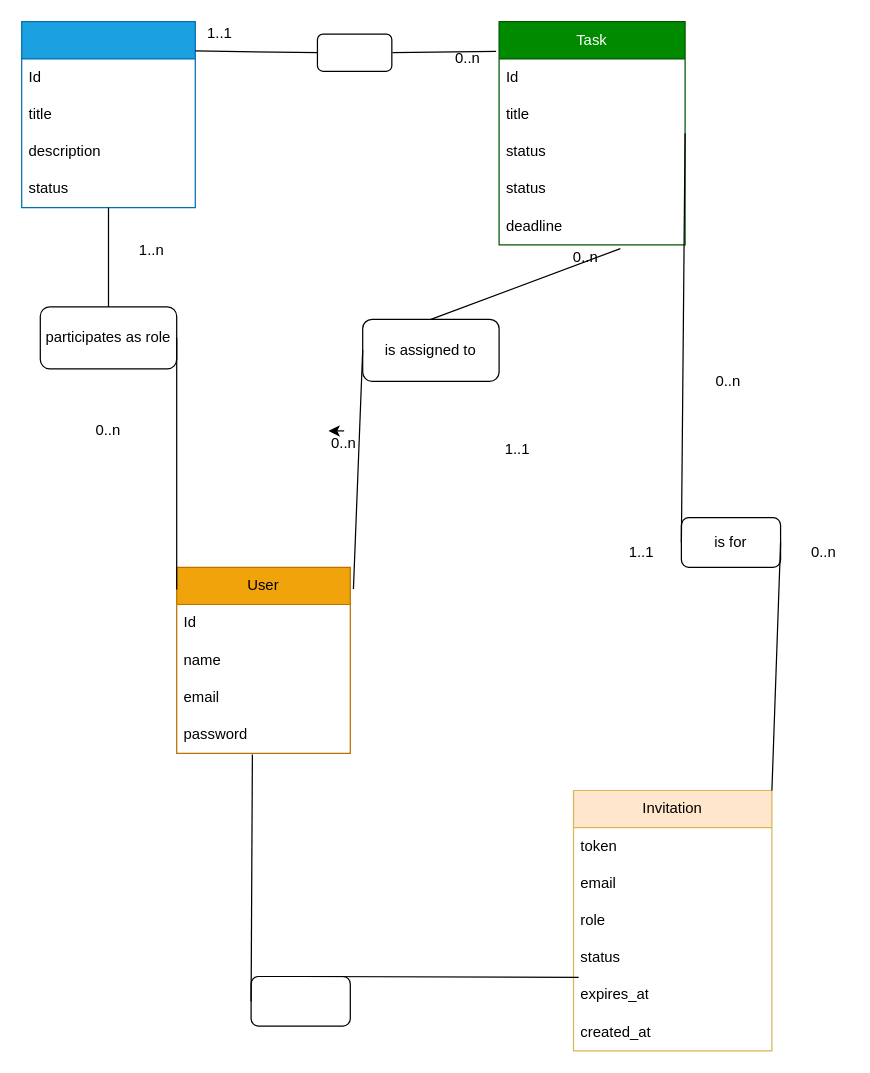
The diagram is 870 pixels wide and 1073 high, and some of its shapes have lost their labels. Here are the shapes that lost their labels. From the top down, the box of each, then its label:
(316, 33, 392, 71): contains
(20, 20, 195, 208): Project
(250, 975, 350, 1026): sends
